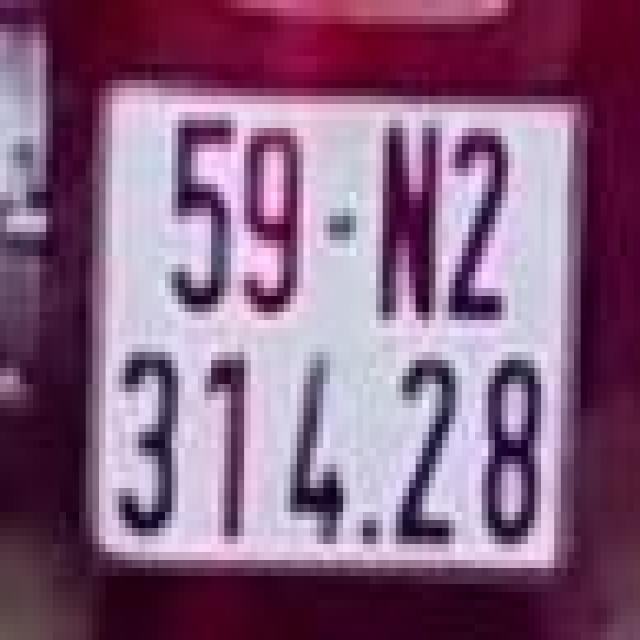1: (194, 336, 260, 544)
2: (383, 348, 462, 548), (445, 116, 518, 332)
3: (112, 340, 185, 540)
4: (280, 336, 353, 552)
5: (158, 100, 238, 316)
8: (478, 344, 544, 552)
9: (238, 120, 310, 320)
N: (366, 112, 446, 336)
